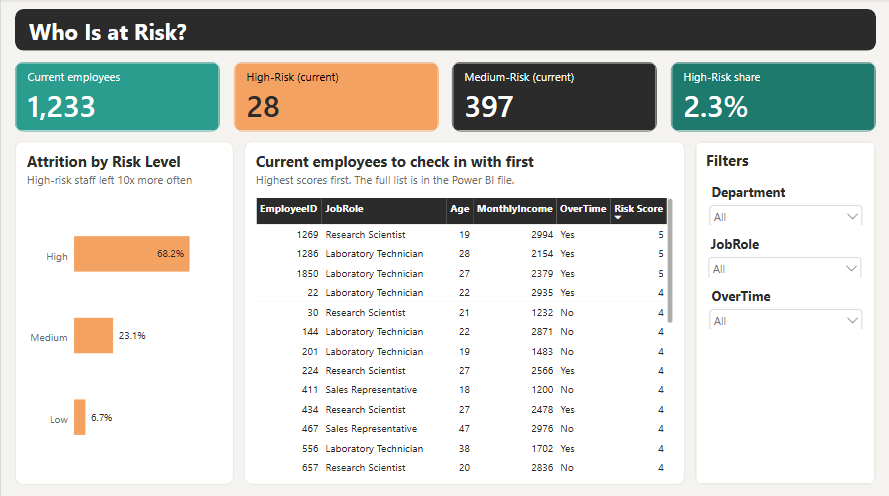

The dashboard page shown, as its layout file describes it:
{"tool":"powerbi","page":{"name":"At-Risk Employees","canvas":[1280,720],"ordinal":2},"visuals":[{"type":"shape","box":[20,15,1240,60],"z":0},{"type":"cardVisual","fields":{"Data":["Employees.Current Employees Display"]},"box":[20.2,90,295,100],"z":1000},{"type":"cardVisual","fields":{"Data":["Employees.High-Risk Current"]},"box":[335,90,295,100],"z":2000},{"type":"cardVisual","fields":{"Data":["Employees.High-Risk Share"]},"box":[965,90,295,100],"z":3000},{"type":"cardVisual","fields":{"Data":["Employees.Medium-Risk Current"]},"box":[650,90,295,100],"z":4000},{"type":"shape","box":[1000,205,260,495],"z":5000},{"type":"slicer","fields":{"Values":["Employees.Department"]},"box":[1015,265,230,60],"z":6000},{"type":"slicer","fields":{"Values":["Employees.JobRole"]},"box":[1014.1,340,230,60],"z":7000},{"type":"slicer","fields":{"Values":["Employees.OverTime"]},"box":[1015.9,415,230,60],"z":8000},{"type":"clusteredBarChart","title":"Attrition by Risk Level","fields":{"Category":["Employees.Risk Level"],"Y":["Employees.Attrition Rate"]},"box":[20,205,315,495],"z":9000},{"type":"tableEx","title":"Current employees to check in with first","fields":{"Values":["Employees.EmployeeNumber","Employees.JobRole","Employees.Age","Employees.MonthlyIncome","Employees.OverTime","Employees.Risk Score"]},"box":[350,205,635,495],"z":10000}]}

Visuals, with their boxes in screenshot pixels (x1, y1, x2, y2), scaled from the page's 1280x720 canvas onto the 889x496 screenshot:
shape: 14 10 875 52
cardVisual - Employees.Current Employees Display: 14 62 219 131
cardVisual - Employees.High-Risk Current: 233 62 438 131
cardVisual - Employees.High-Risk Share: 670 62 875 131
cardVisual - Employees.Medium-Risk Current: 451 62 656 131
shape: 695 141 875 482
slicer - Employees.Department: 705 183 865 224
slicer - Employees.JobRole: 704 234 864 276
slicer - Employees.OverTime: 706 286 865 327
"Attrition by Risk Level" clusteredBarChart: 14 141 233 482
"Current employees to check in with first" tableEx: 243 141 684 482
